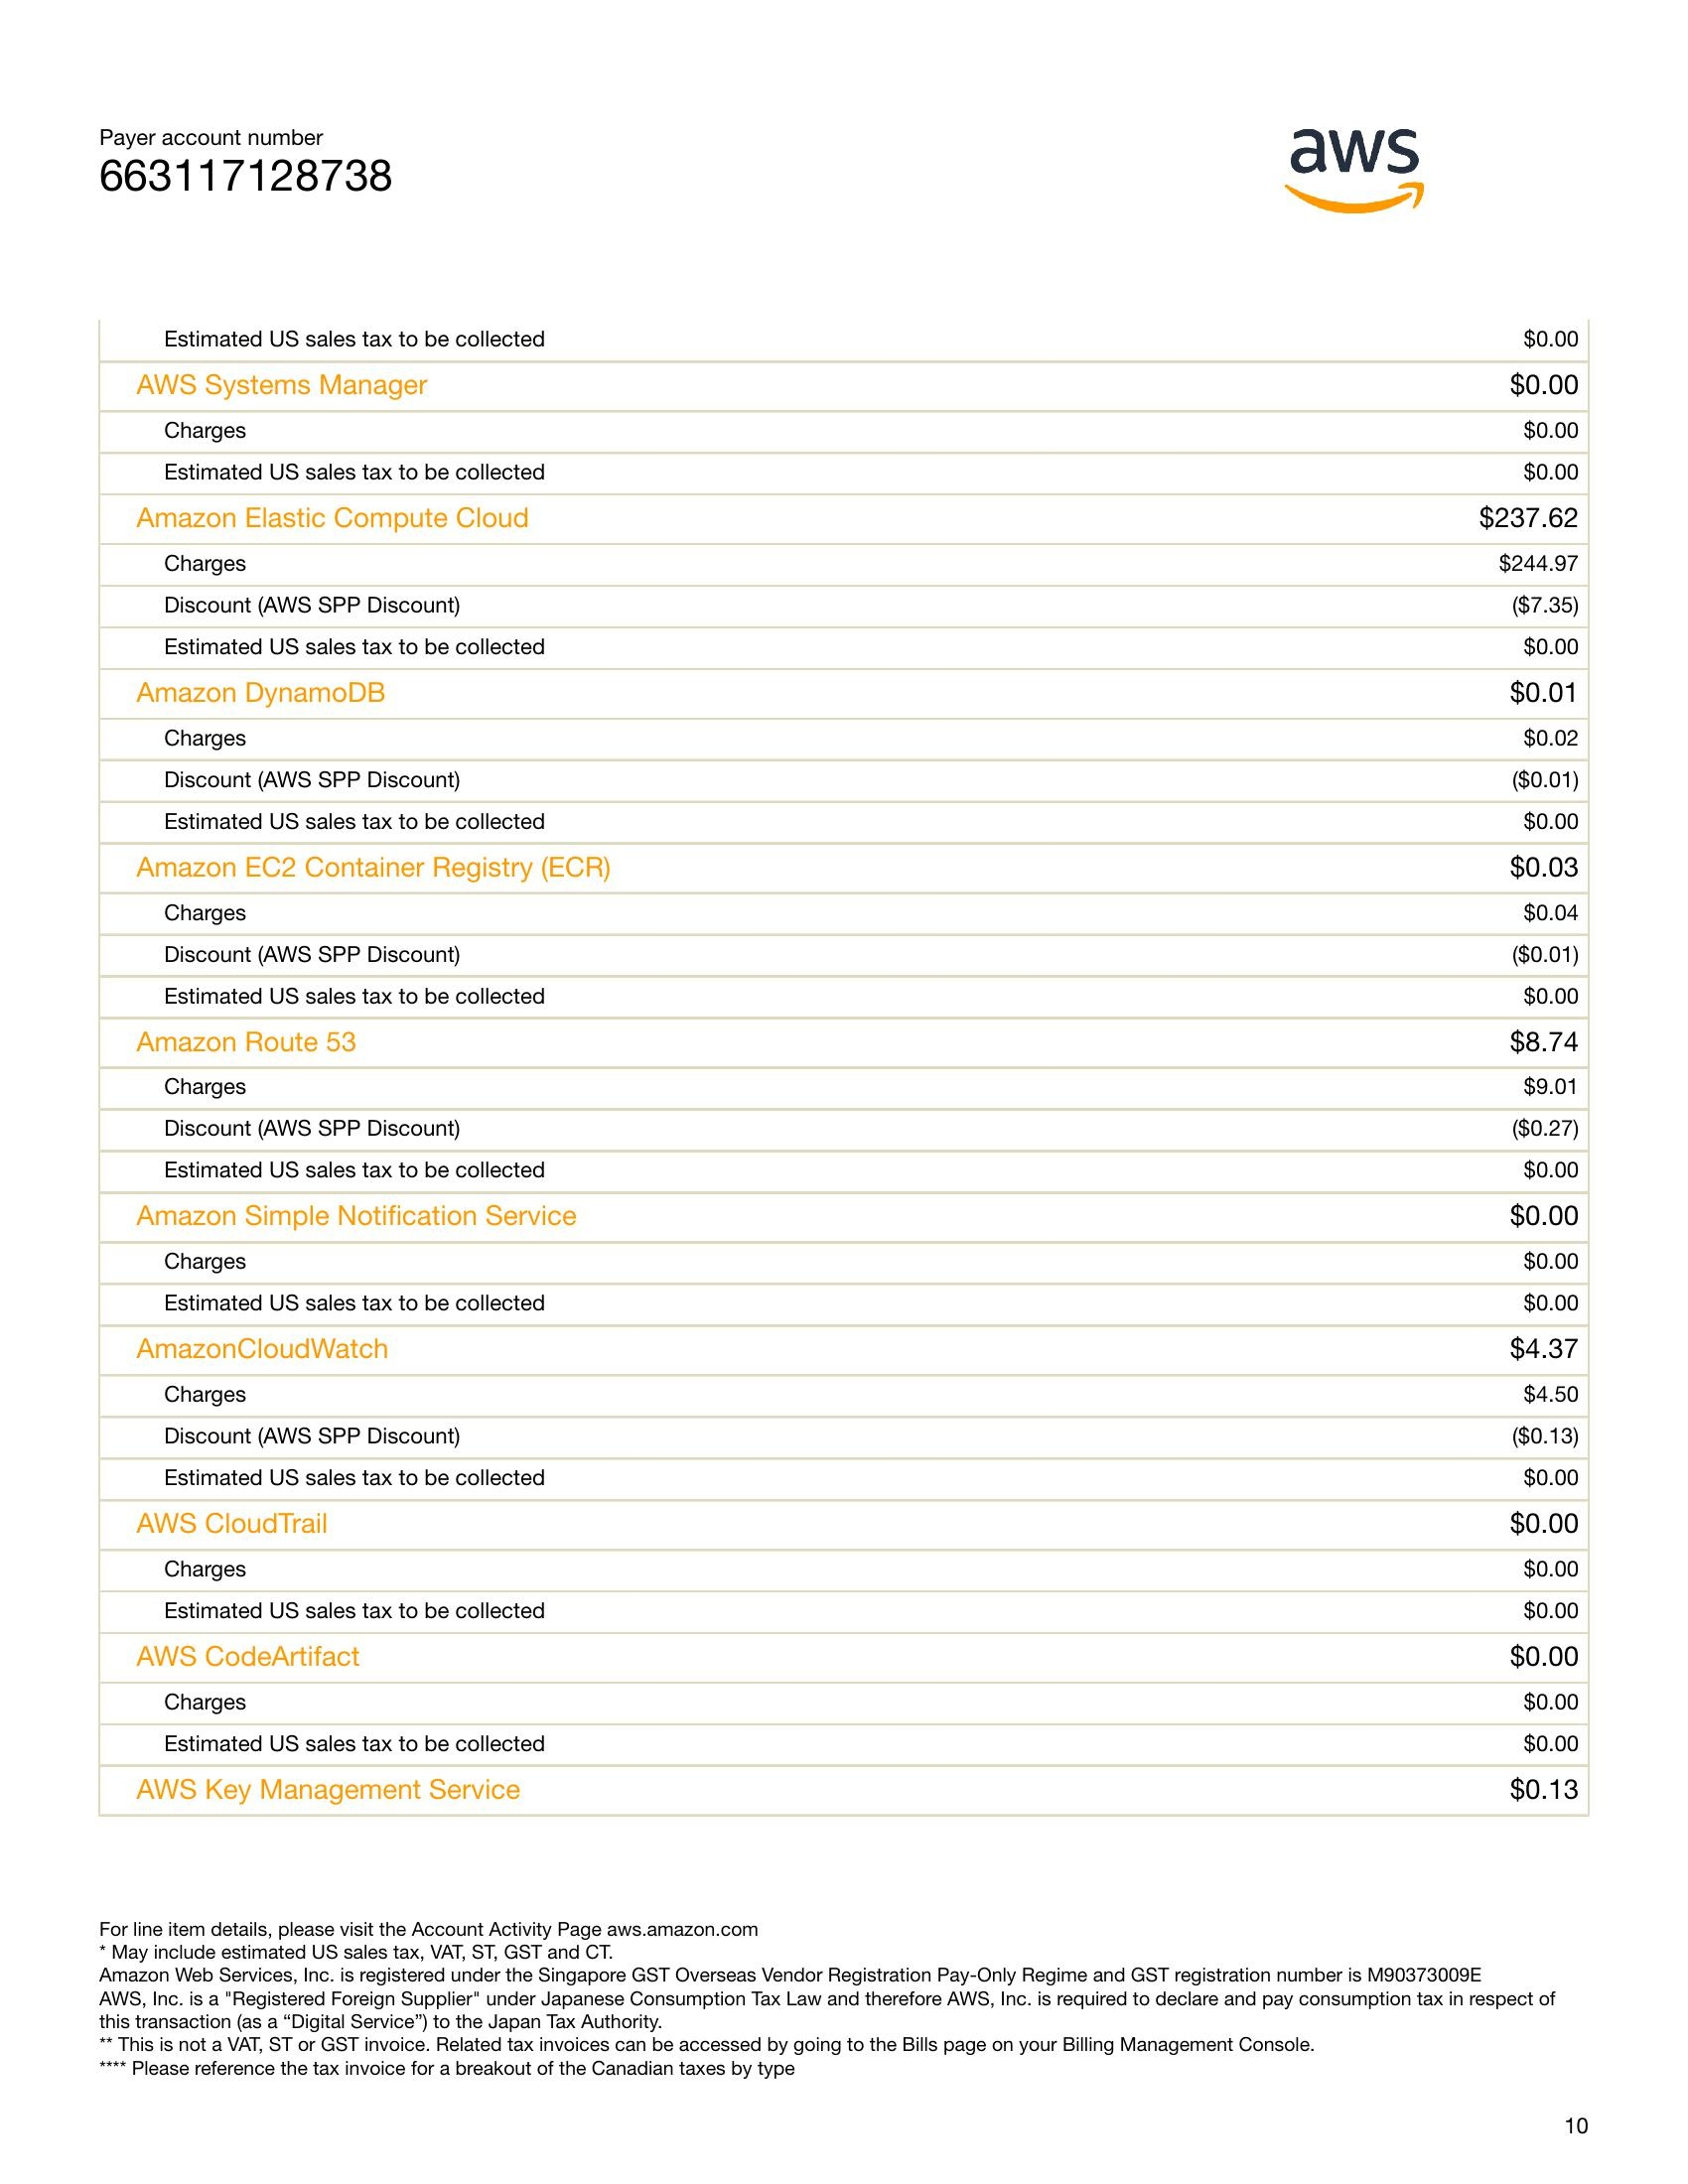table: (92, 310, 1606, 1815)
